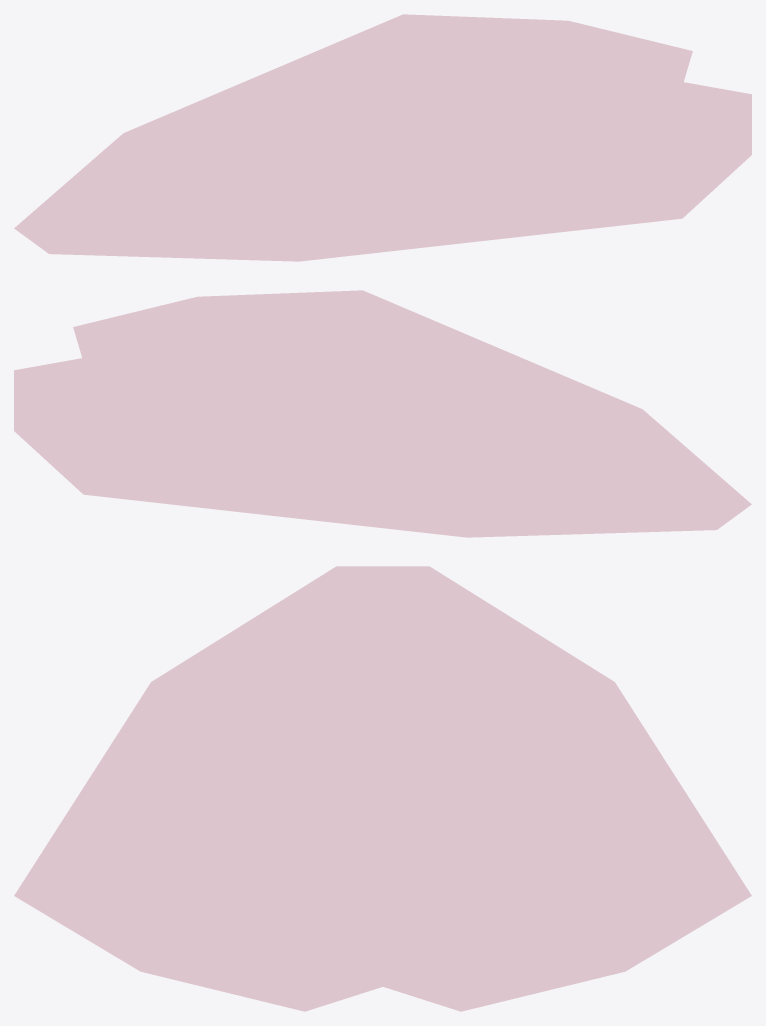
File: sakura_fx_petal.glb
3 renders of one model, top to bottom at view 1: azimuth 30°, elevation 25°; view 2: azimuth 150°, elevation 25°; view 3: azimuth 270°, elevation 25°, orthographic. The views are drawn at different scales.
Parts seen in each view (by area): view 1: sakura_fx_petal; view 2: sakura_fx_petal; view 3: sakura_fx_petal.
Boxes of the visible parts, x1,y1,x2,y2 form: sakura_fx_petal: [14, 14, 751, 261]; sakura_fx_petal: [14, 290, 751, 537]; sakura_fx_petal: [14, 566, 751, 1011].
Size of the model in its own units: 0.05 by 0 by 0.035.
1 material, 1 textured.
